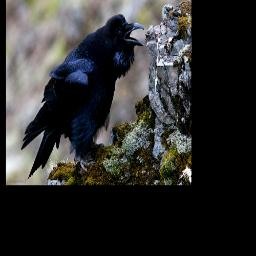Crow: (21, 13, 145, 181)
